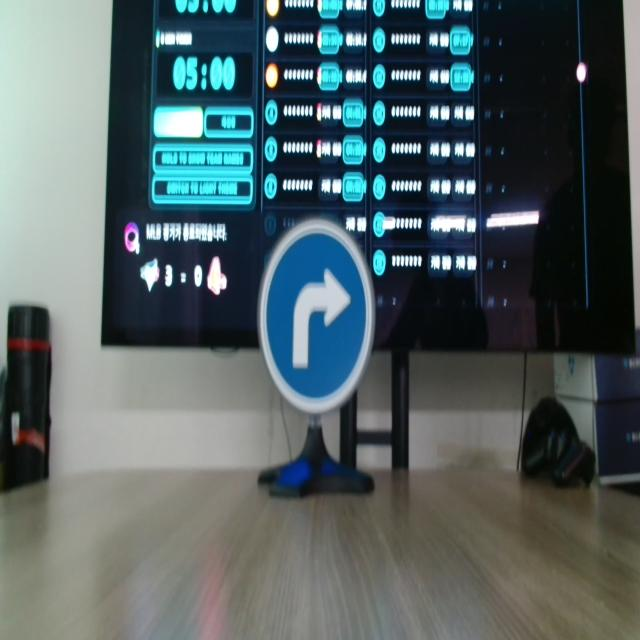right_dierection: (254, 217, 377, 411)
